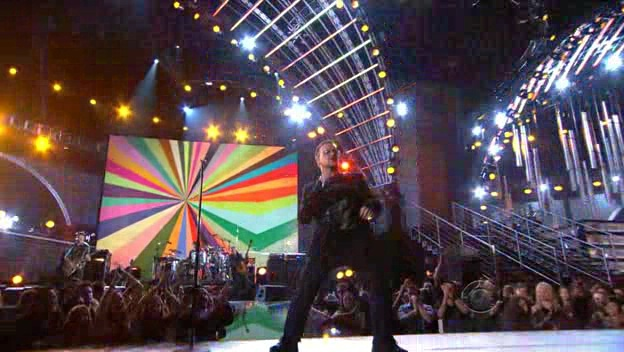person: (301, 142, 366, 261), (298, 142, 363, 261), (304, 142, 369, 261), (301, 139, 366, 258), (301, 145, 366, 264)
target_negative: (173, 58, 536, 254), (212, 281, 528, 345), (424, 211, 550, 307), (421, 59, 515, 121), (287, 70, 321, 94), (613, 196, 621, 229)
